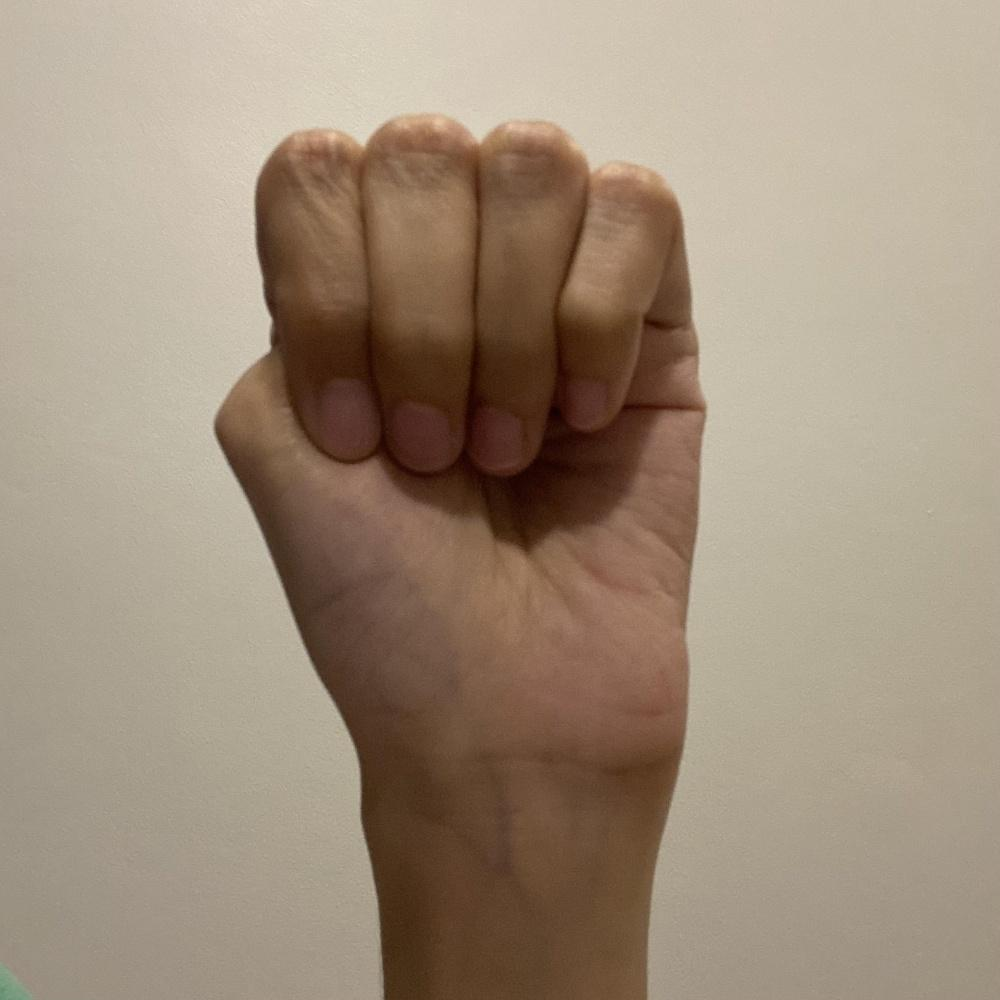m: (211, 103, 711, 772)
